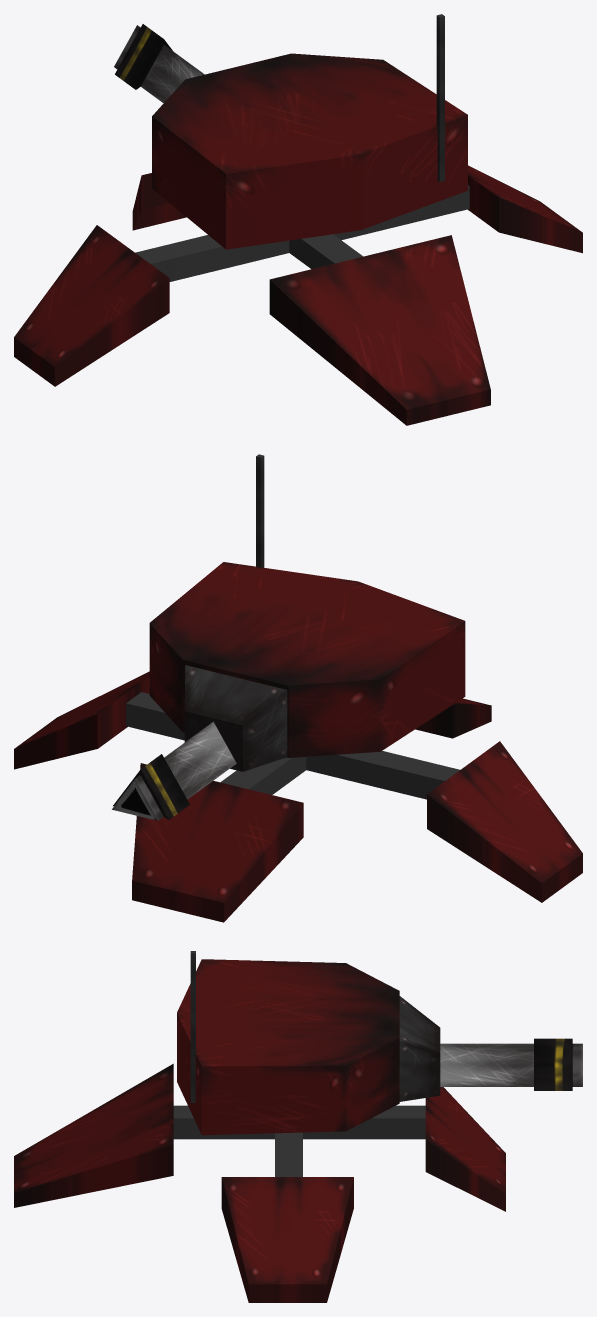
Rendered from TDTowerMortar1.fbx.
3 renders of one model, top to bottom at view 1: azimuth 30°, elevation 25°; view 2: azimuth 150°, elevation 25°; view 3: azimuth 270°, elevation 25°, orthographic. The views are drawn at different scales.
Parts seen in each view (by area): view 1: polySurface436, polySurface433; view 2: polySurface433, polySurface436; view 3: polySurface433, polySurface436.
Part boxes in pixels (x1,y1,x2,y2): polySurface436: [14, 165, 582, 425]; polySurface433: [114, 14, 467, 249]; polySurface433: [112, 454, 465, 820]; polySurface436: [14, 671, 582, 922]; polySurface433: [177, 951, 582, 1135]; polySurface436: [14, 1063, 505, 1302].
Size of the model in its own units: 23.67 by 13.2 by 24.36.
